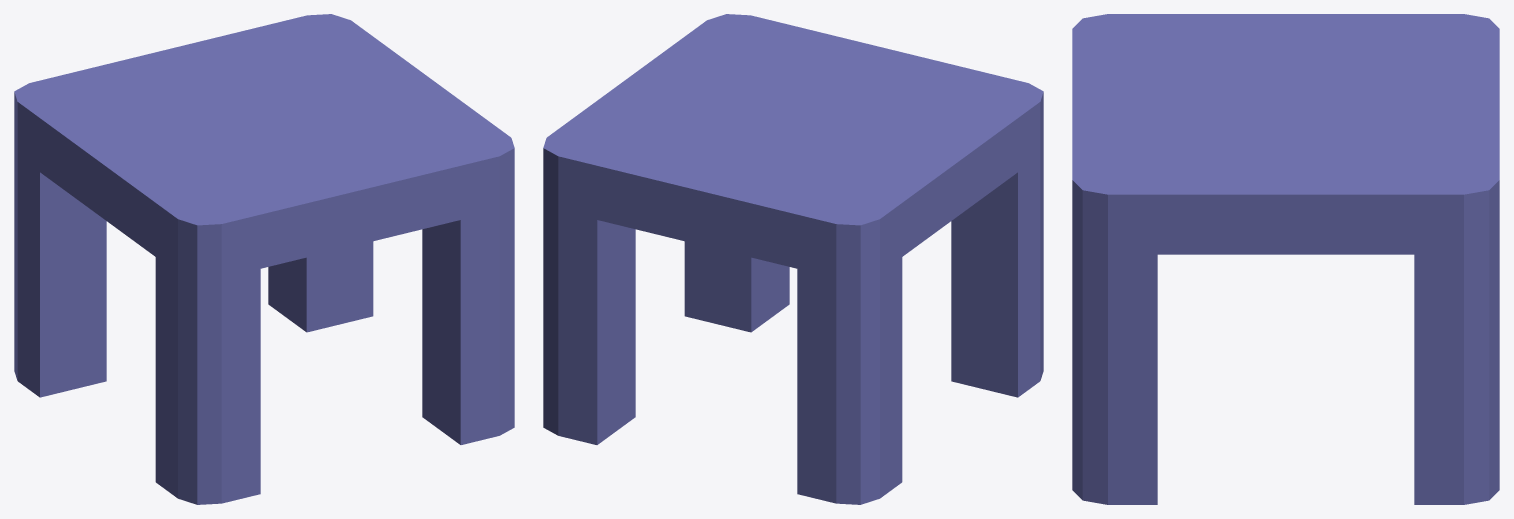
Rendered from appartment.fbx.
3 views of the same model, side by side, from view 1: azimuth 30°, elevation 25°; view 2: azimuth 150°, elevation 25°; view 3: azimuth 270°, elevation 25° (orthographic). The views are drawn at different scales.
Parts seen in each view (by area): view 1: Table1; view 2: Table1; view 3: Table1.
Part boxes in pixels (<box>): Table1: <box>14,14,514,504</box>; Table1: <box>543,14,1043,504</box>; Table1: <box>1072,14,1499,504</box>.
Size of the model in its own units: 84.14 by 67.4 by 84.14.
